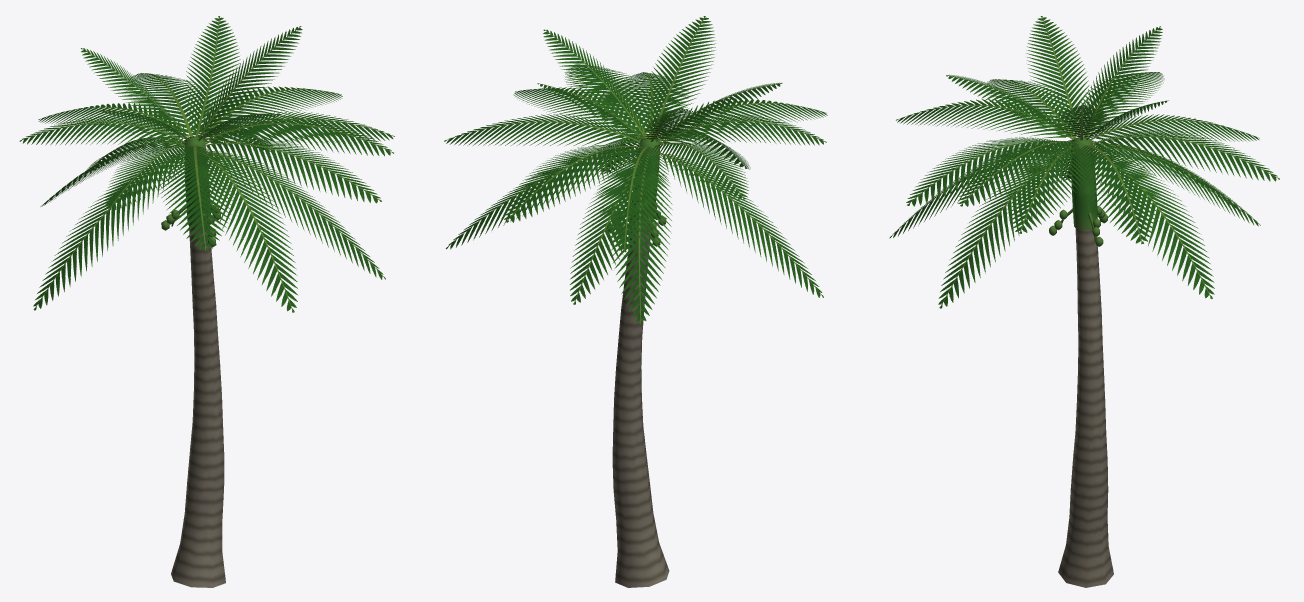
Rendered from veg-tree-palm-royal-lod1-2bd731aaa323.glb.
3 views of the same model, side by side, from view 1: azimuth 30°, elevation 25°; view 2: azimuth 150°, elevation 25°; view 3: azimuth 270°, elevation 25° (orthographic). The views are drawn at different scales.
Parts seen in each view (by area): view 1: veg-tree-palm-royal_lod1; view 2: veg-tree-palm-royal_lod1; view 3: veg-tree-palm-royal_lod1.
Boxes of the visible parts, x1,y1,x2,y2 form: veg-tree-palm-royal_lod1: (19,16,394,587); veg-tree-palm-royal_lod1: (444,16,827,587); veg-tree-palm-royal_lod1: (889,16,1279,587).
Size of the model in its own units: 5.98 by 8.5 by 6.07.
Materials: 3 (3 with a texture image).
